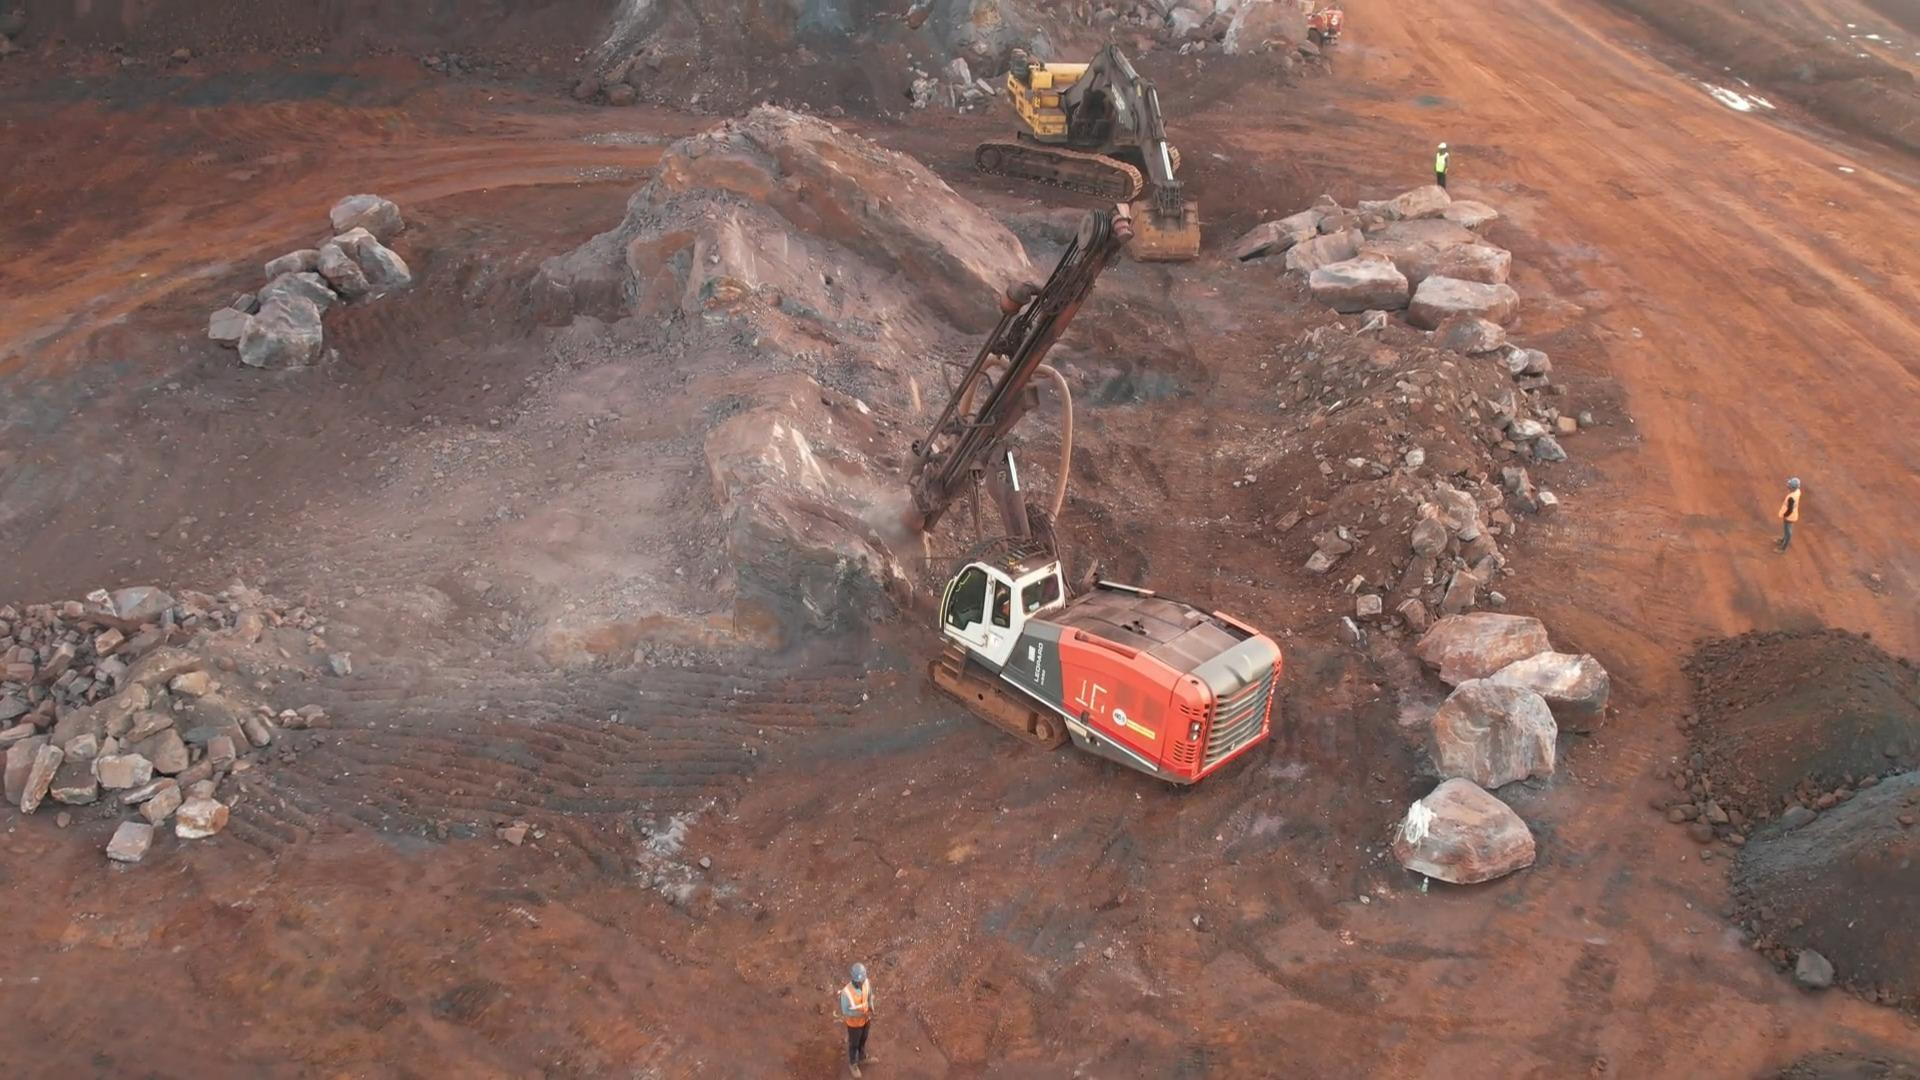excavator: (1001, 50, 1167, 200)
